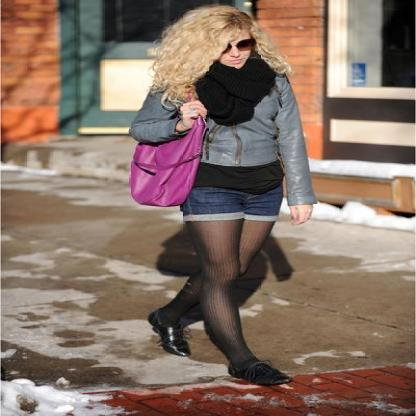bag: (128, 128, 215, 198)
jacket: (112, 66, 311, 205)
shoe: (148, 310, 288, 390)
shorts: (164, 158, 284, 226)
sunglass: (237, 34, 260, 58)
